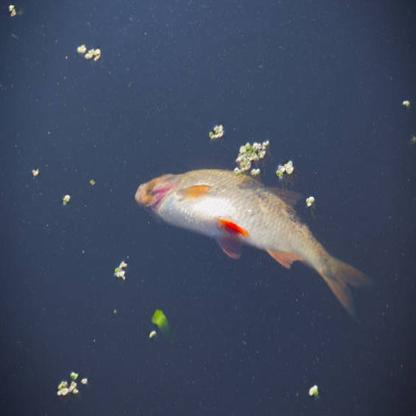deceased fish: (130, 168, 373, 325)
